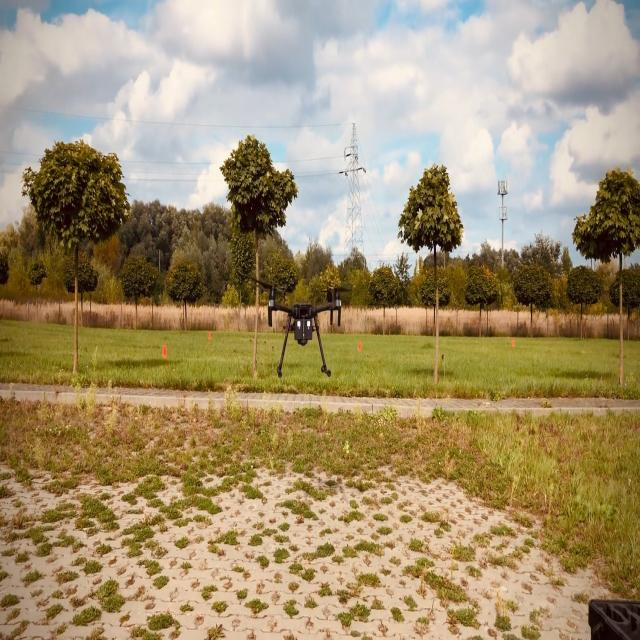drone: (249, 274, 353, 378)
